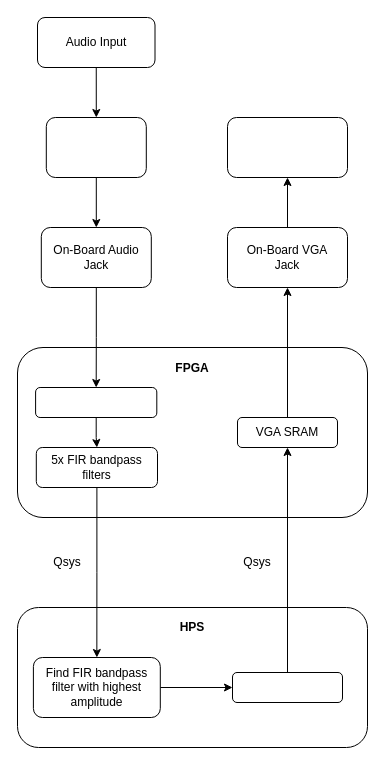
The diagram is 385 pixels wide and 781 high, and some of its shapes have lost their labels. The centre of each missing label's shape, as x and y in pixels:
"640x480 VGA Screen" goes at pixel 287 147.
"Audio Processing" goes at pixel 96 402.
"Boid calculations" goes at pixel 287 687.
"Microphone" goes at pixel 95 147.
